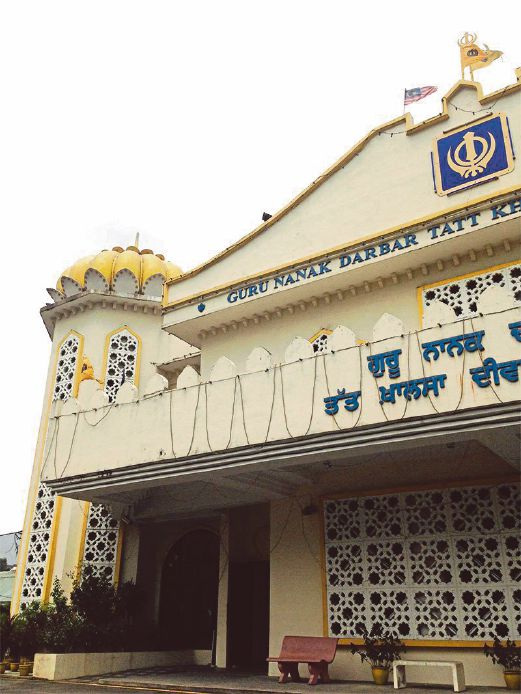Gurdwara: (43, 18, 521, 661)
